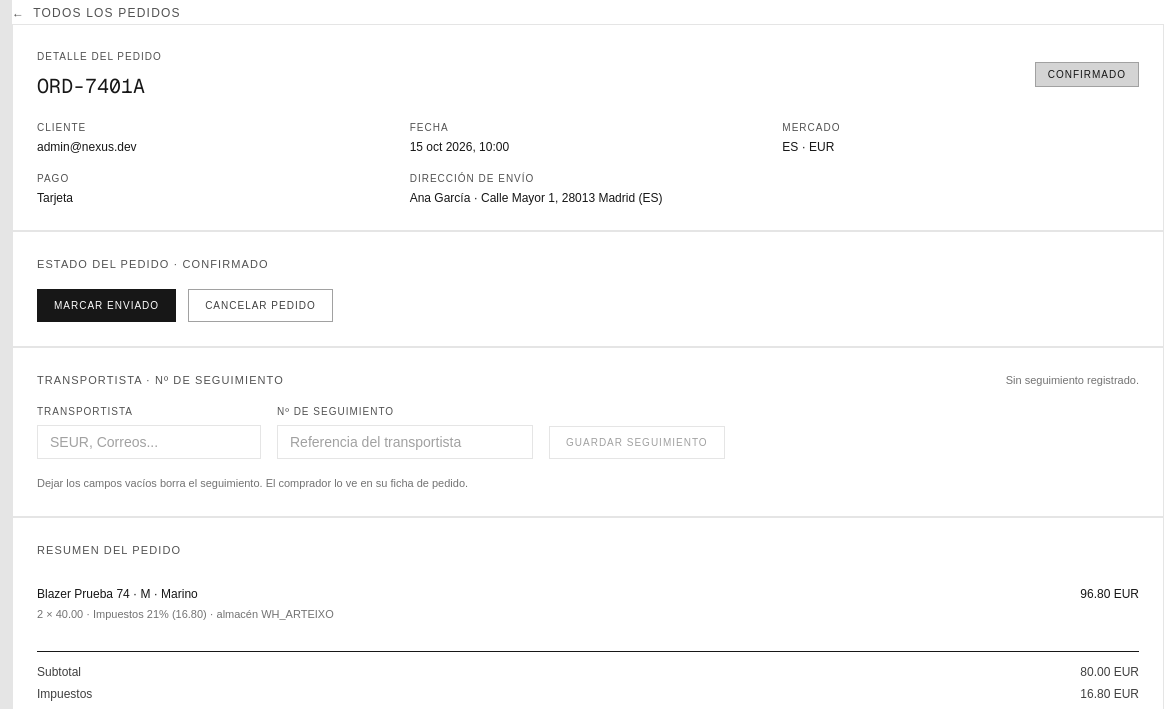
AdminOrderDetailPage › éxito: toast + panel actualizado con la respuesta del PUT, sin re-fetch (E.4)
Expected: the heading "ORD-7401A" is shown, [37,72,162,100]
Click the button "Marcar enviado" at coordinates (107, 305), box [37,288,176,322]
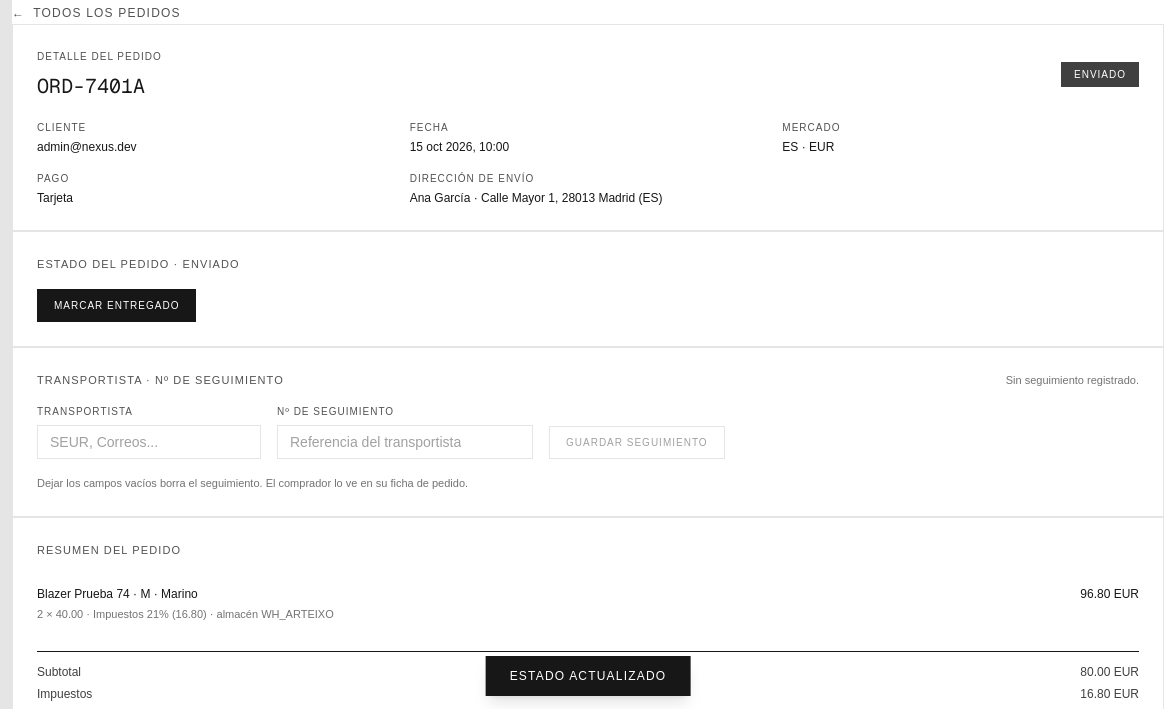
Now the text "Estado actualizado" is shown, box [486,656,690,696]
Now the text "Enviado" is shown, box [1061,62,1139,87]
Now the button "Marcar entregado" is shown, box [37,288,196,322]
